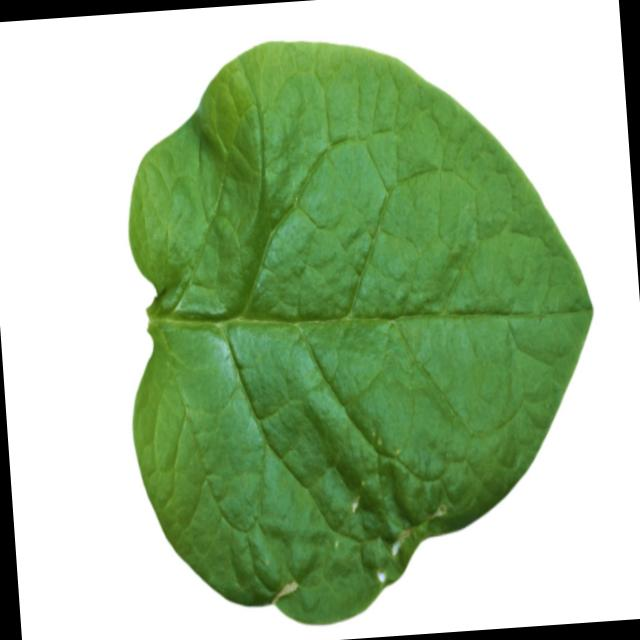Medicinal-Basale: (104, 18, 614, 640)
